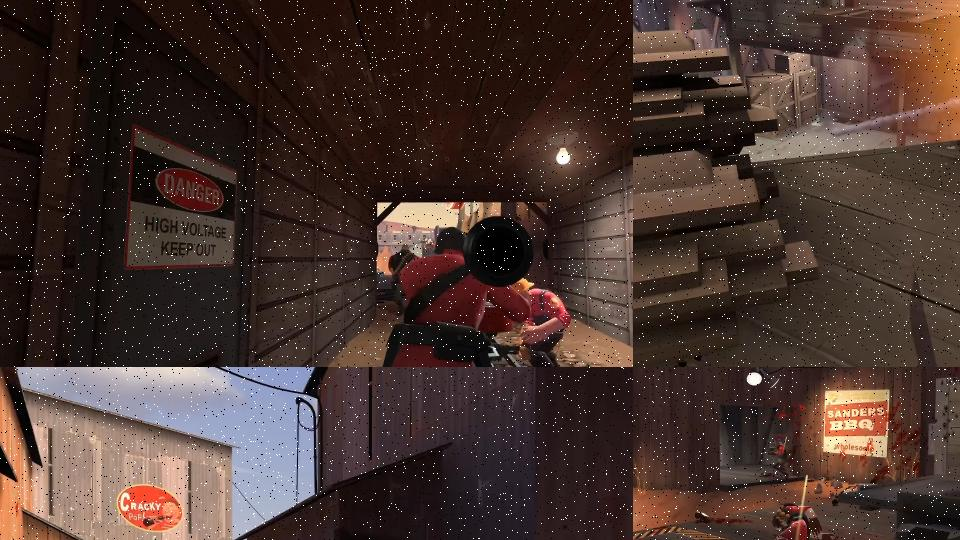Enemy: (333, 214, 535, 367), (510, 275, 572, 367), (743, 501, 839, 540), (388, 243, 421, 317), (761, 439, 790, 480)
